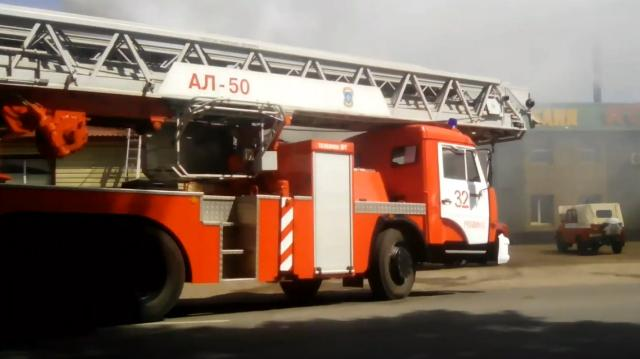fire fighting vehicle: (3, 5, 531, 324), (559, 203, 628, 258)
